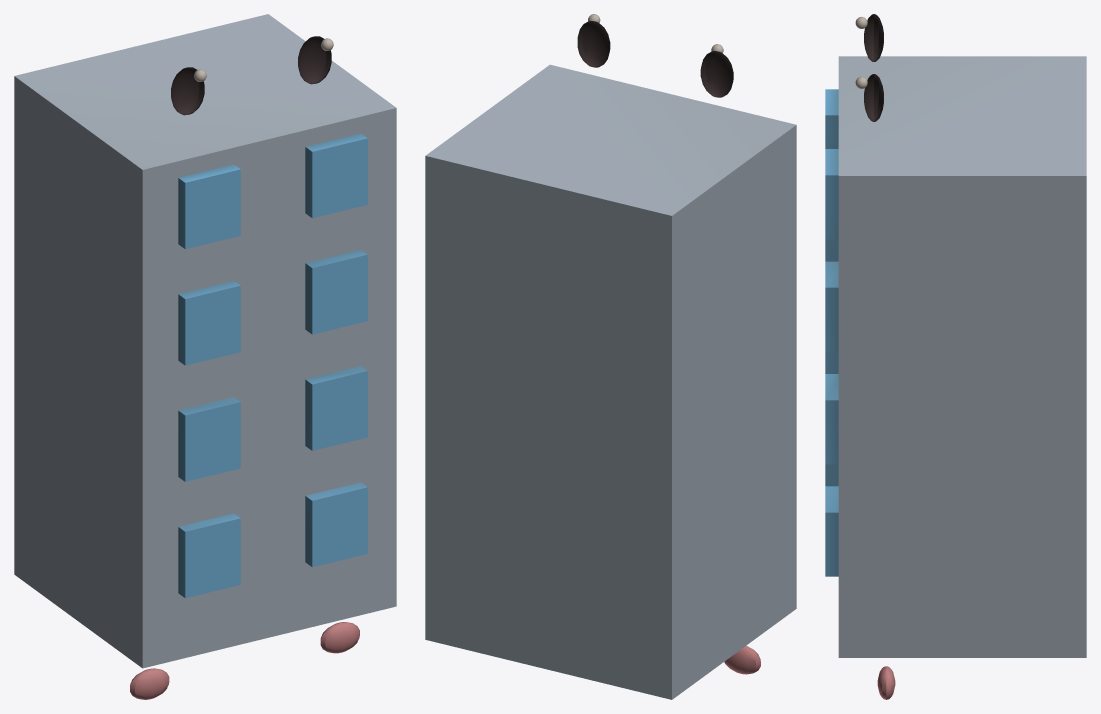
3 renders of one model, left to right at view 1: azimuth 30°, elevation 25°; view 2: azimuth 150°, elevation 25°; view 3: azimuth 270°, elevation 25°, orthographic. The views are drawn at different scales.
Visible parts, largest first — view 1: pet_pc4995b48; view 2: pet_pc4995b48; view 3: pet_pc4995b48.
Part boxes in pixels (bbox=[...]): pet_pc4995b48: bbox=[14, 14, 396, 699]; pet_pc4995b48: bbox=[425, 14, 796, 699]; pet_pc4995b48: bbox=[825, 14, 1086, 699].
Size of the model in its own units: 0.32 by 0.757 by 0.295.
